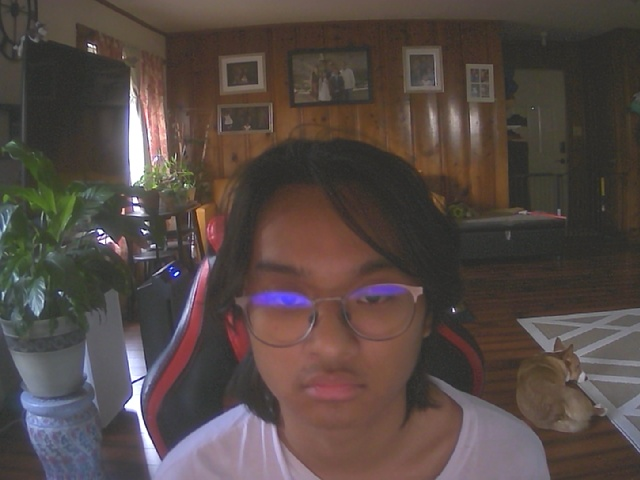neutral: (226, 141, 449, 435)
